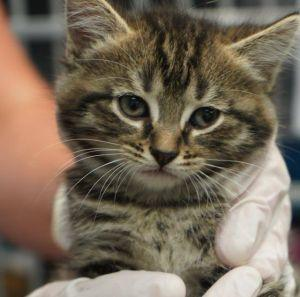bengal: (56, 1, 300, 198)
